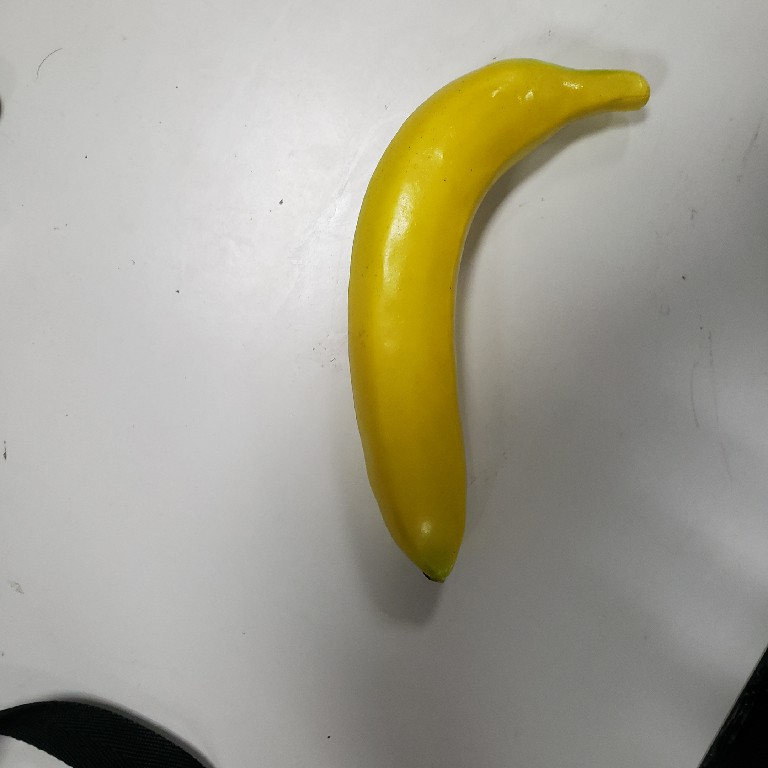fruit_banana: (340, 55, 655, 591)
